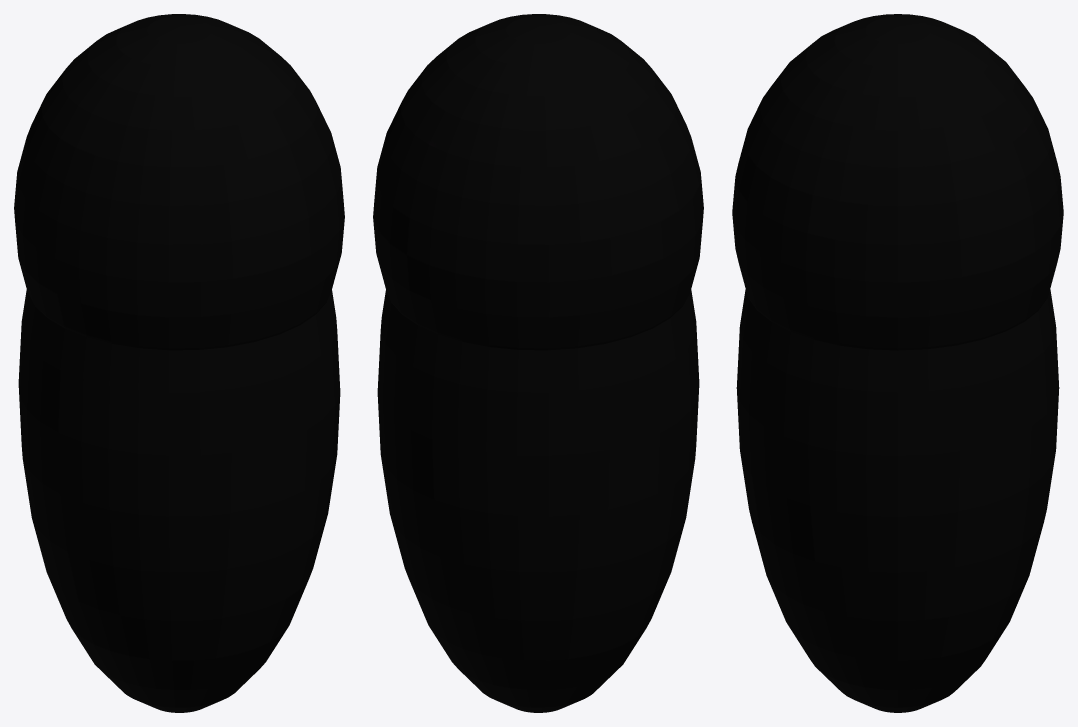
Rendered from MusloDer_Arbitro.obj.
The picture shows the model from 3 angles, left to right: view 1: azimuth 30°, elevation 25°; view 2: azimuth 150°, elevation 25°; view 3: azimuth 270°, elevation 25°; orthographic projection.
Parts seen in each view (by area): view 1: MusloDer_Arbitro; view 2: MusloDer_Arbitro; view 3: MusloDer_Arbitro.
Part boxes in pixels (x1,y1,x2,y2): MusloDer_Arbitro: (14, 14, 344, 712); MusloDer_Arbitro: (373, 14, 703, 712); MusloDer_Arbitro: (732, 14, 1063, 712).
Size of the model in its own units: 1.15 by 2.6 by 1.15.
Materials: 1 (1 with a texture image).
